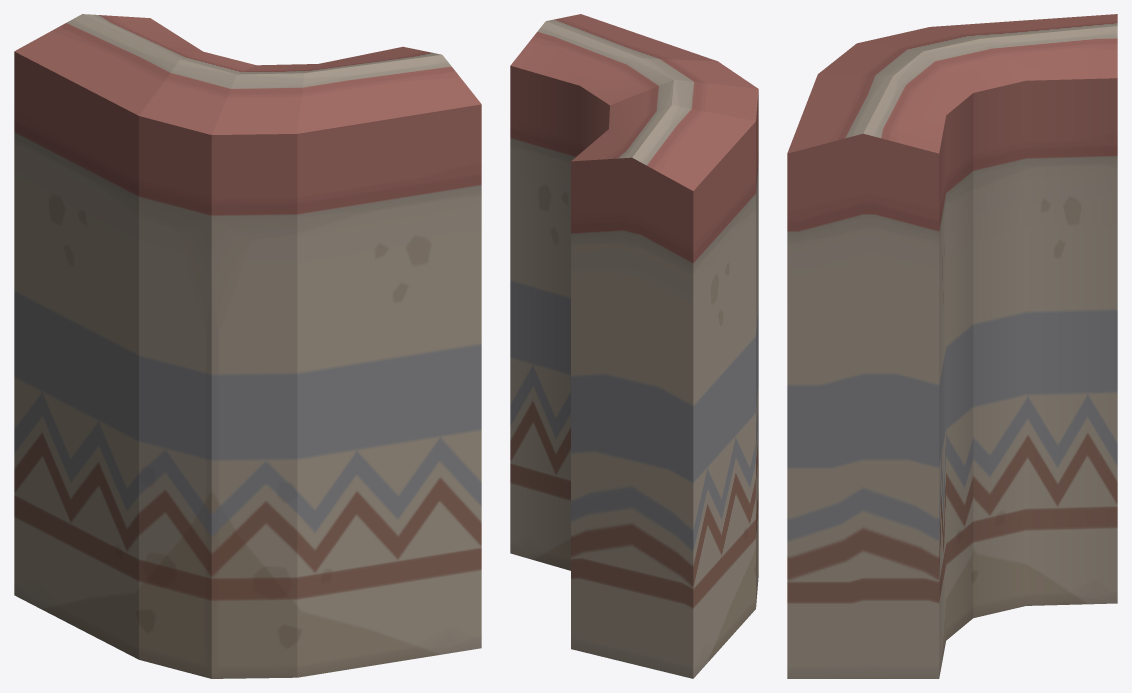
Rendered from SM_Bld_Wall_Balcony_Corner_Ground_02.fbx.
The picture shows the model from 3 angles, left to right: view 1: azimuth 30°, elevation 25°; view 2: azimuth 150°, elevation 25°; view 3: azimuth 270°, elevation 25°; orthographic projection. The views are drawn at different scales.
Visible parts, largest first — view 1: SM_Bld_Wall_Balcony_Corner_Ground_02; view 2: SM_Bld_Wall_Balcony_Corner_Ground_02; view 3: SM_Bld_Wall_Balcony_Corner_Ground_02.
Part boxes in pixels (box(x1,y1,x2,y2)): SM_Bld_Wall_Balcony_Corner_Ground_02: box(14, 14, 481, 678); SM_Bld_Wall_Balcony_Corner_Ground_02: box(510, 14, 758, 678); SM_Bld_Wall_Balcony_Corner_Ground_02: box(787, 14, 1117, 678).
Size of the model in its own units: 49.2 by 89.54 by 49.2.
